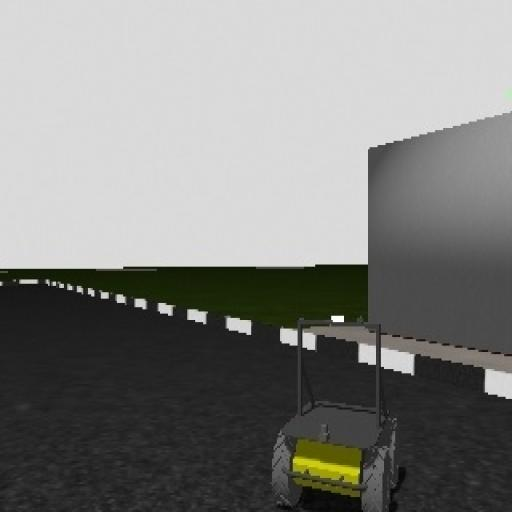huskya200: (264, 313, 412, 512)
